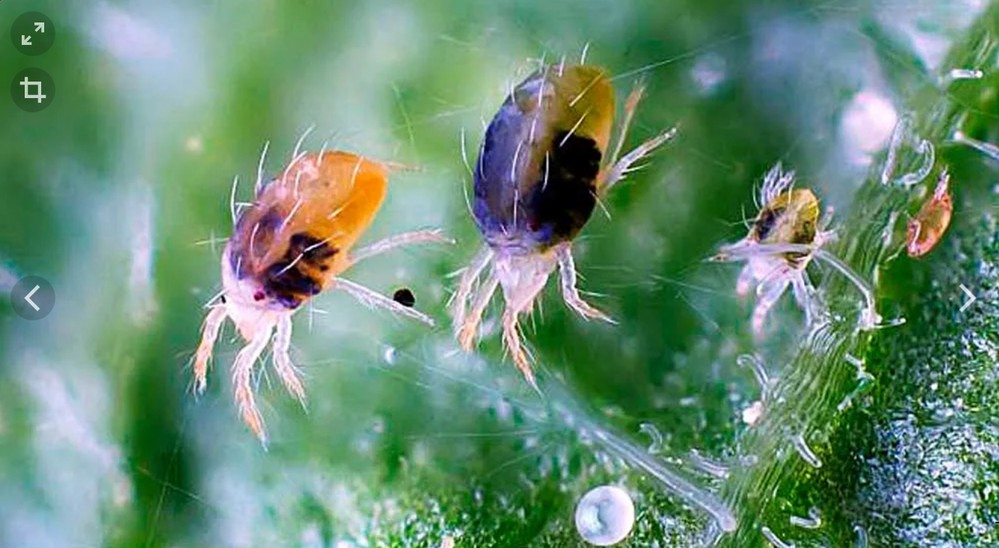Aracnido Rojo: (165, 120, 442, 441), (443, 45, 647, 417), (710, 154, 838, 322)
